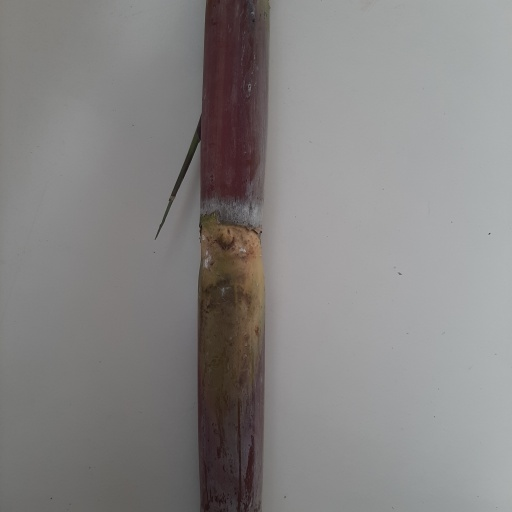Bud: (215, 227, 236, 253)
